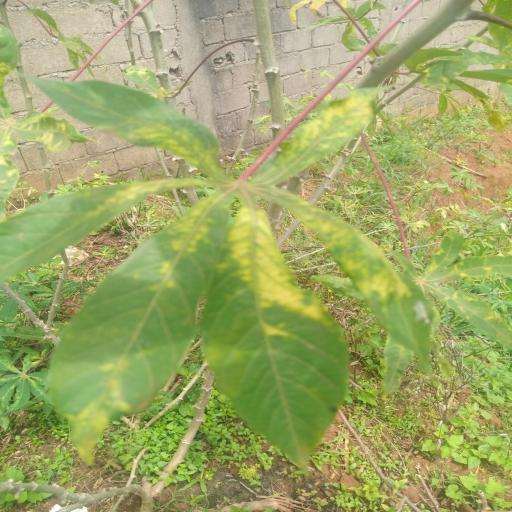Cassava_Mosaic: (8, 73, 440, 469)
